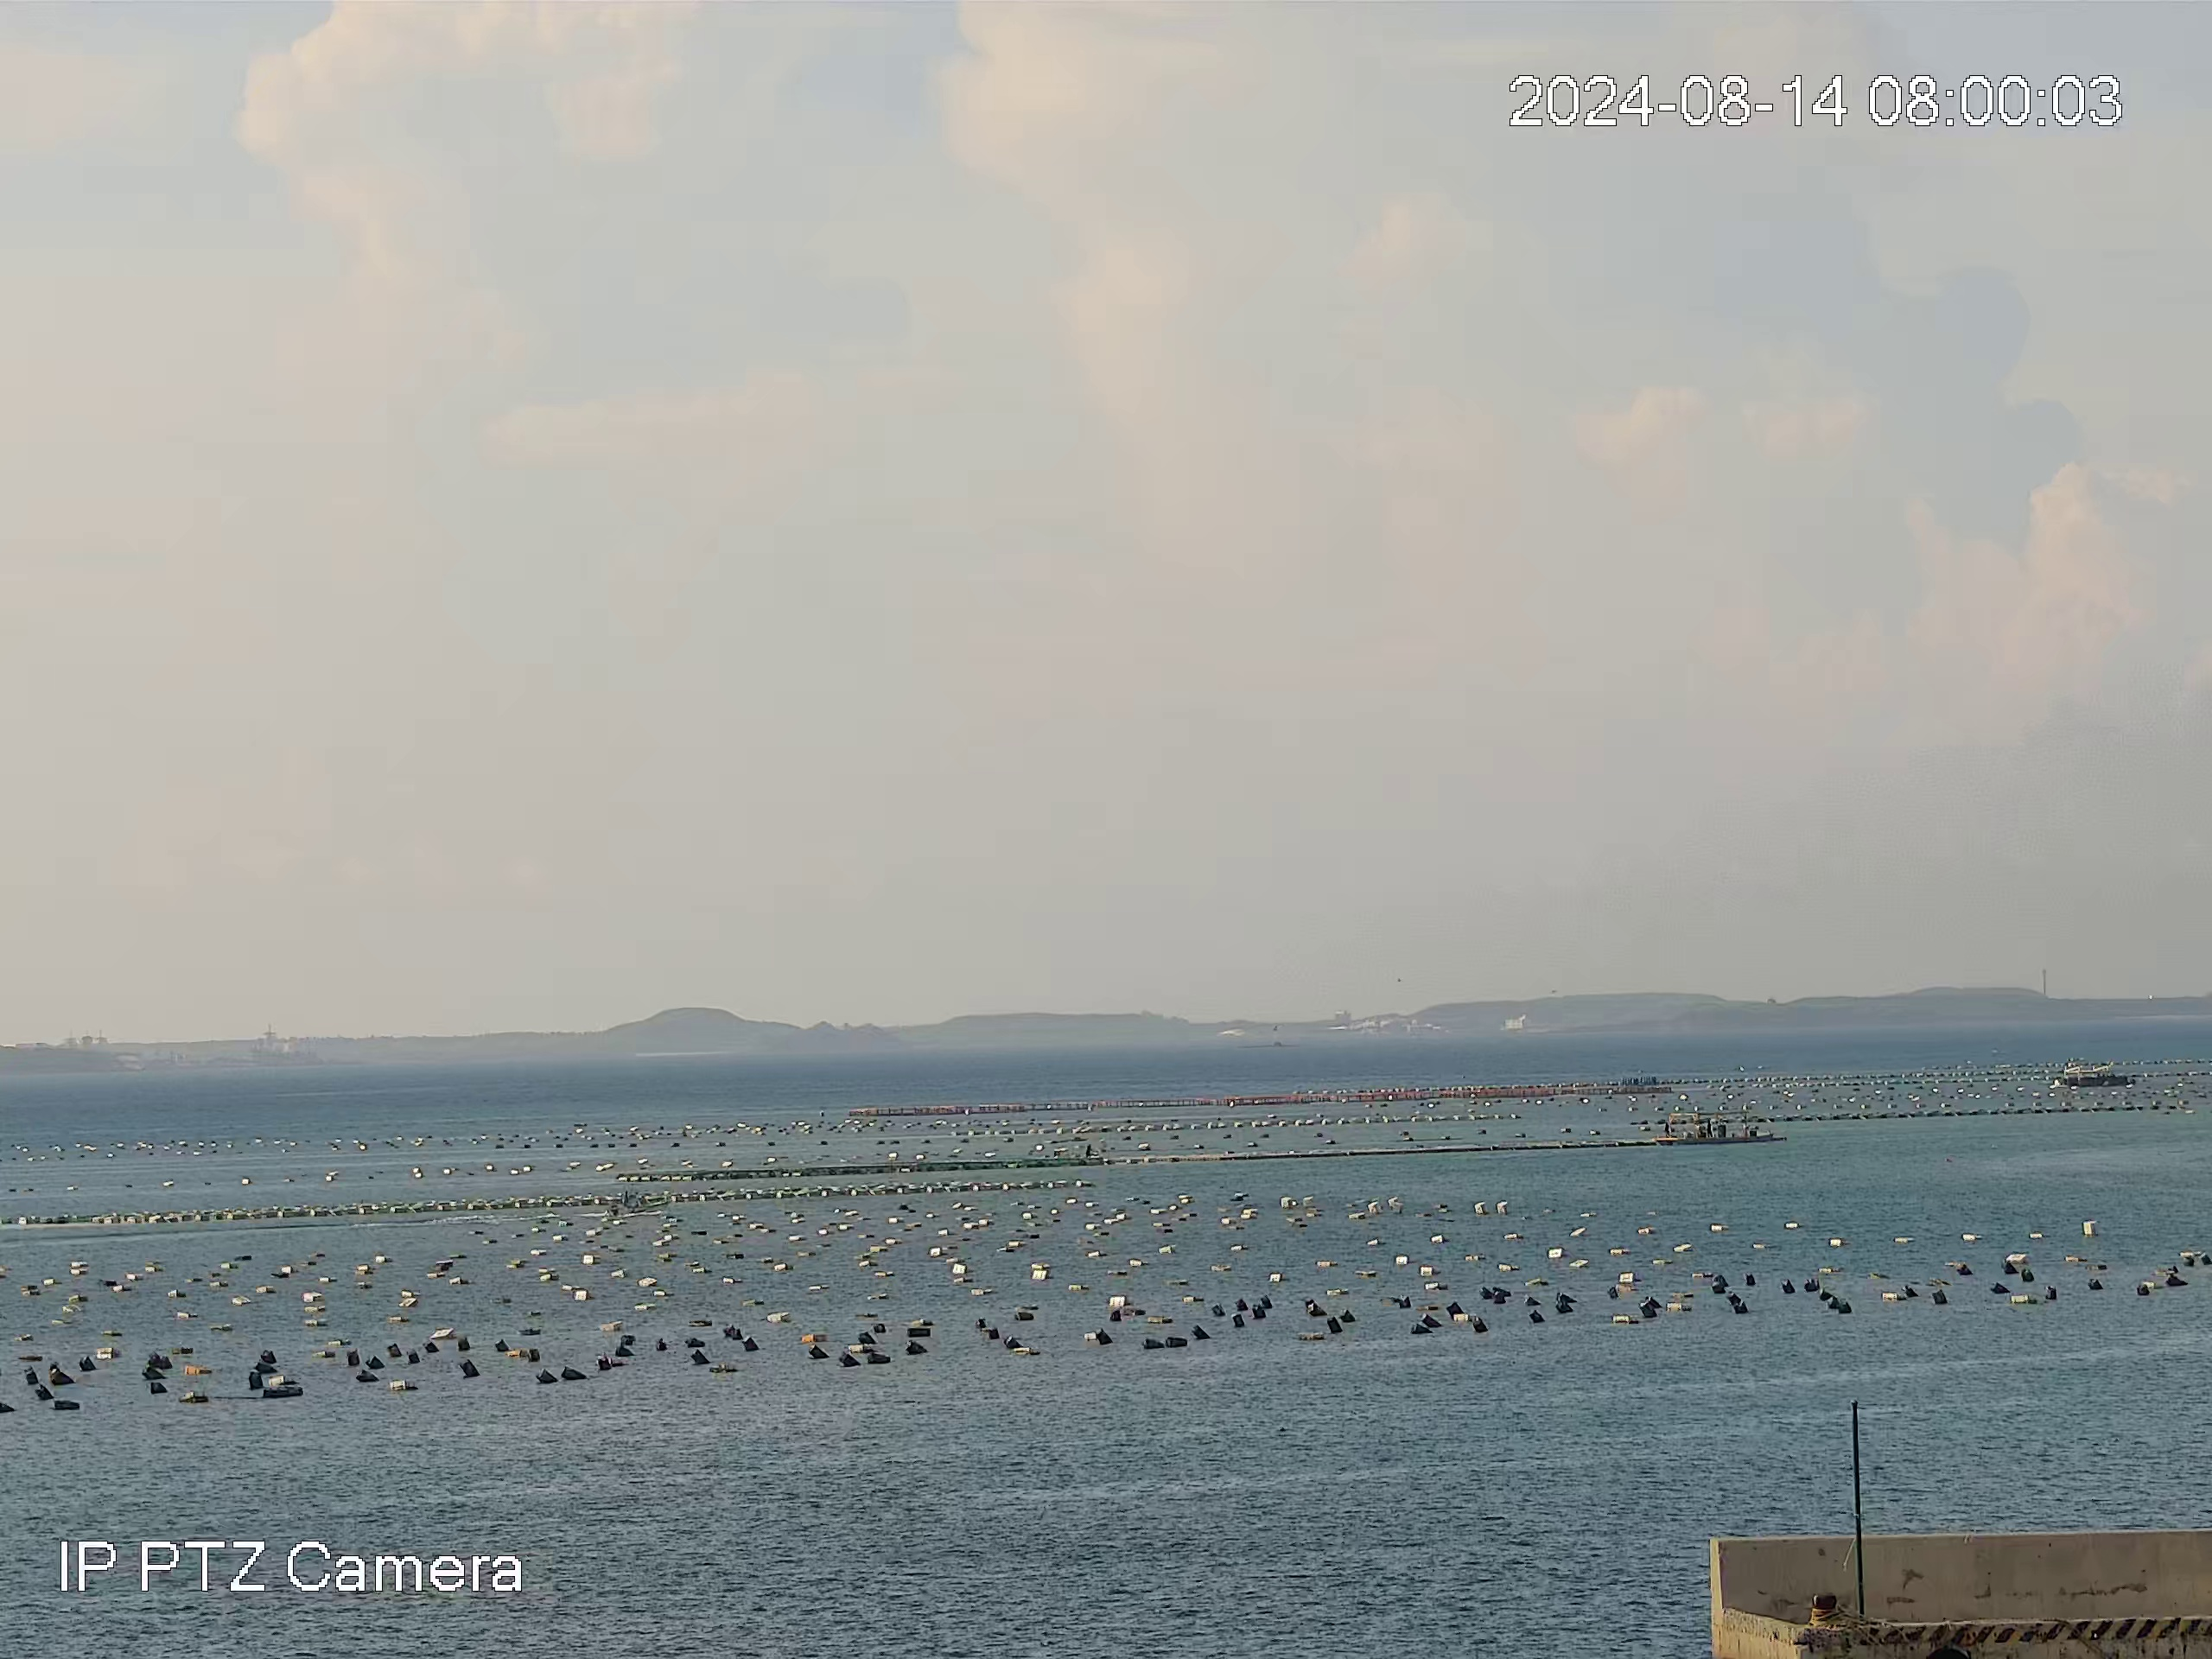boat: (1651, 1103, 1791, 1154), (2050, 1051, 2148, 1096), (599, 1180, 681, 1222)
